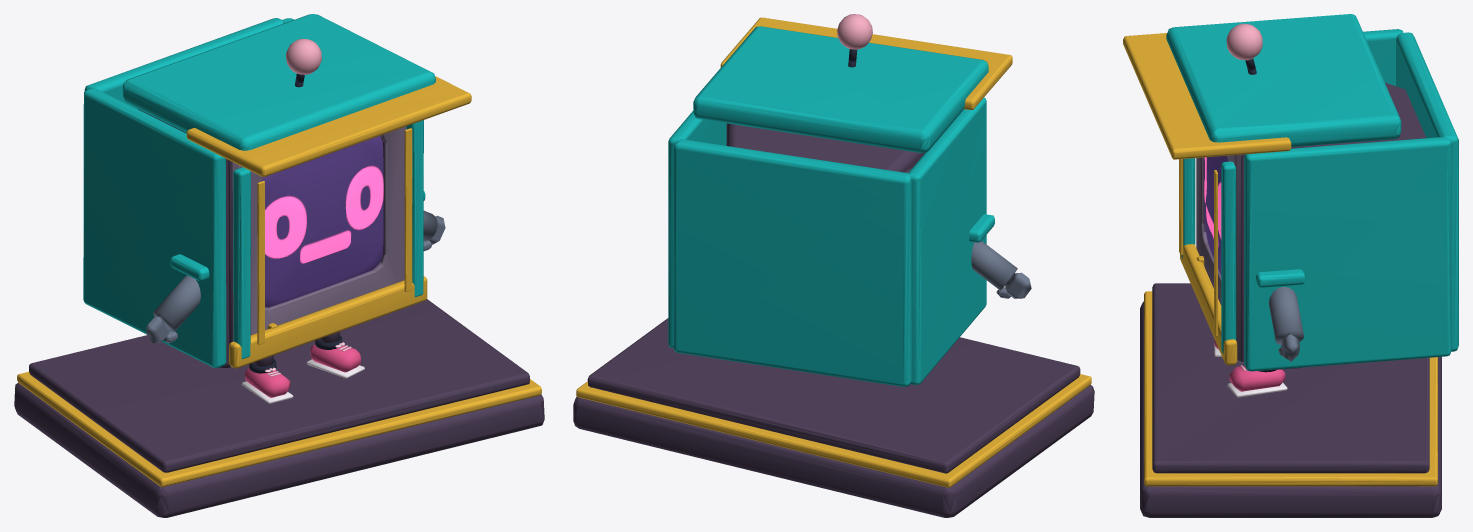
The model's file is kart.outfit.pit-crew.glb.
3 renders of one model, left to right at view 1: azimuth 30°, elevation 25°; view 2: azimuth 150°, elevation 25°; view 3: azimuth 270°, elevation 25°, orthographic. The views are drawn at different scales.
Parts seen in each view (by area): view 1: display_top, jacket_side.001, visor_crown, display_base, emi_teacup_mesh, stand_identity_face, cap_brim, brass_band, waist_band, front_open_edge.001, front_open_edge, jacket_back (+3 smaller); view 2: jacket_back, display_top, visor_crown, display_base, jacket_side.001, brass_band, emi_teacup_mesh, cap_brim, jacket_side; view 3: jacket_side, display_top, visor_crown, display_base, emi_teacup_mesh, cap_brim, brass_band, jacket_back, front_open_edge, waist_band, stand_identity_face, jacket_side.001 (+4 smaller).
Boxes of the visible parts, bbox=[...] form: display_top: bbox=[29, 299, 529, 472]; jacket_side.001: bbox=[83, 88, 226, 367]; visor_crown: bbox=[122, 14, 435, 150]; display_base: bbox=[14, 382, 544, 517]; emi_teacup_mesh: bbox=[138, 38, 445, 403]; stand_identity_face: bbox=[261, 136, 383, 307]; cap_brim: bbox=[186, 76, 471, 176]; brass_band: bbox=[17, 371, 541, 487]; waist_band: bbox=[229, 276, 427, 368]; front_open_edge.001: bbox=[233, 167, 250, 359]; front_open_edge: bbox=[406, 120, 423, 297]; jacket_back: bbox=[84, 18, 282, 109]; jacket_back: bbox=[673, 139, 911, 386]; display_top: bbox=[587, 318, 1080, 473]; visor_crown: bbox=[693, 26, 988, 152]; display_base: bbox=[573, 385, 1094, 517]; jacket_side.001: bbox=[908, 97, 986, 384]; brass_band: bbox=[576, 374, 1091, 487]; emi_teacup_mesh: bbox=[726, 14, 1031, 298]; cap_brim: bbox=[720, 17, 1012, 109]; jacket_side: bbox=[668, 111, 726, 348]; jacket_side: bbox=[1244, 137, 1451, 371]; display_top: bbox=[1152, 283, 1429, 473]; visor_crown: bbox=[1166, 14, 1401, 146]; display_base: bbox=[1140, 301, 1441, 517]; emi_teacup_mesh: bbox=[1196, 23, 1425, 397]; cap_brim: bbox=[1123, 33, 1291, 159]; brass_band: bbox=[1144, 291, 1437, 486]; jacket_back: bbox=[1396, 32, 1458, 351]; front_open_edge: bbox=[1221, 161, 1236, 353]; waist_band: bbox=[1180, 244, 1237, 365]; stand_identity_face: bbox=[1204, 155, 1228, 275]; jacket_side.001: bbox=[1363, 29, 1403, 85].
Bounding box in the file's own units: 0.648 × 0.6331 × 0.48.
Materials: 4 (2 with a texture image).
